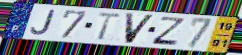7: (60, 9, 89, 39), (189, 16, 214, 50)
J: (29, 9, 56, 37)
T: (96, 12, 124, 42)
V: (124, 12, 157, 45)
Z: (150, 16, 187, 47)
